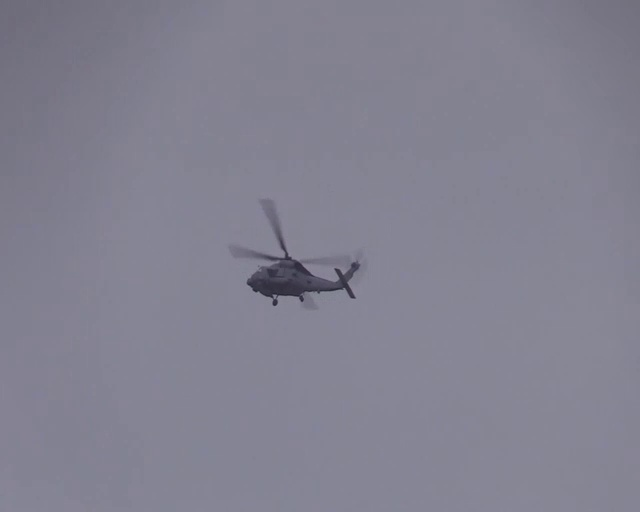HELICOPTER: (228, 197, 363, 308)
